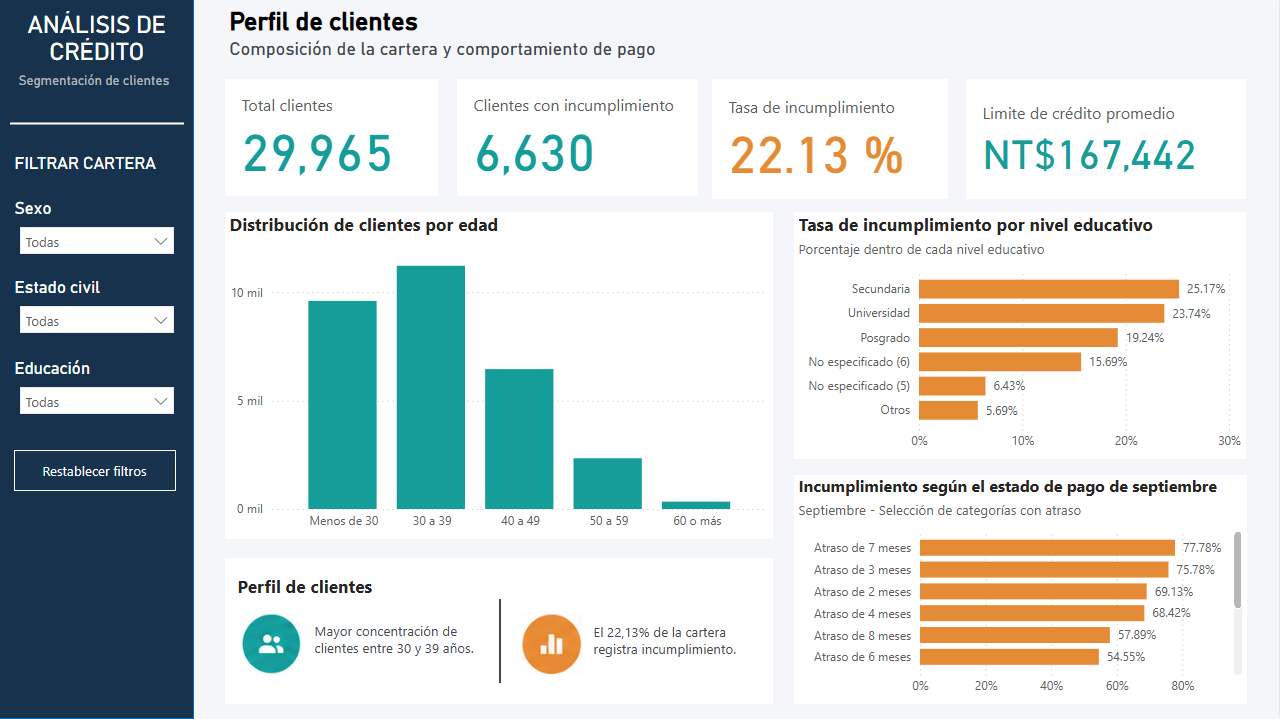

What the dashboard file says about the page in this screenshot:
{"tool":"powerbi","page":{"name":"Perfil de clientes","canvas":[1280,720],"ordinal":0},"visuals":[{"type":"cardVisual","fields":{"Data":["clientes.Total clientes"]},"box":[226,80,213,117],"z":0},{"type":"cardVisual","fields":{"Data":["clientes.Clientes con incumplimiento"]},"box":[458,80,241,117],"z":1000},{"type":"cardVisual","fields":{"Data":["clientes.Tasa de incumplimiento"]},"box":[713,80,236,120],"z":2000},{"type":"cardVisual","fields":{"Data":["clientes.Limite promedio"]},"box":[967,80,280,120],"z":3000},{"type":"clusteredBarChart","title":"Tasa de incumplimiento por nivel educativo","fields":{"Category":["clientes.EDUCATION_etiqueta"],"Y":["clientes.Tasa de incumplimiento"]},"box":[795,213,452,247],"z":4000},{"type":"clusteredBarChart","title":"Incumplimiento según el estado de pago de septiembre","fields":{"Category":["clientes.PAY_0_etiqueta"],"Y":["clientes.Tasa de incumplimiento"]},"box":[795,476,453,229],"z":5000},{"type":"clusteredColumnChart","title":"Distribución de clientes por edad","fields":{"Category":["clientes.Grupo de edad"],"Y":["clientes.Total clientes"]},"box":[226,213,548,327],"z":6000},{"type":"shape","box":[0,0,195,720],"z":7000},{"type":"textbox","title":"ANÁLISIS DE CRÉDITO","box":[18,12,160,62],"z":8000},{"type":"slicer","title":"Sexo","fields":{"Values":["clientes.SEX_etiqueta"]},"box":[11.2,198.9,174,70],"z":9000},{"type":"slicer","title":"Estado civil","fields":{"Values":["clientes.MARRIAGE_etiqueta"]},"box":[11.2,277.9,174,70],"z":10000},{"type":"slicer","title":"Educación","fields":{"Values":["clientes.EDUCATION_etiqueta"]},"box":[11.2,358.9,174,70],"z":11000},{"type":"shape","box":[11,113,174,23],"z":12000},{"type":"textbox","title":"Segmentación de clientes","box":[15,74,166,18],"z":13000},{"type":"textbox","title":"FILTRAR CARTERA","box":[11.2,153.8,166.2,18.1],"z":14000},{"type":"textbox","title":"Perfil de clientes","box":[226,7,1004,32],"z":15000},{"type":"textbox","title":"Composición de la cartera y comportamiento de pago","box":[226,39,584,20],"z":16000},{"type":"actionButton","title":"Restablecer filtros","box":[15,451,162,41],"z":17000},{"type":"shape","box":[226,559,548,146],"z":18000},{"type":"textbox","title":"Perfil de clientes","box":[234,575,234,25],"z":19000},{"type":"image","box":[517,609,72,72],"z":20000},{"type":"image","box":[234,609,77,72],"z":21000},{"type":"textbox","title":"Mayor concentración de clientes entre 30 y 39 años.","box":[311,623,178,44],"z":22000},{"type":"shape","box":[481,600,40,84],"z":23000},{"type":"textbox","title":"El 22,13% de la cartera registra incumplimiento.","box":[590,624,178,44],"z":23001}]}

Visuals, with their boxes in screenshot pixels (x1, y1, x2, y2), scaled from the page's 1280x720 canvas onto the 1280x719 screenshot:
cardVisual - clientes.Total clientes: 226,80,439,197
cardVisual - clientes.Clientes con incumplimiento: 458,80,699,197
cardVisual - clientes.Tasa de incumplimiento: 713,80,949,200
cardVisual - clientes.Limite promedio: 967,80,1247,200
"Tasa de incumplimiento por nivel educativo" clusteredBarChart: 795,213,1247,459
"Incumplimiento según el estado de pago de septiembre" clusteredBarChart: 795,475,1248,704
"Distribución de clientes por edad" clusteredColumnChart: 226,213,774,539
shape: 0,0,195,718
"ANÁLISIS DE CRÉDITO" textbox: 18,12,178,74
"Sexo" slicer: 11,199,185,269
"Estado civil" slicer: 11,278,185,347
"Educación" slicer: 11,358,185,428
shape: 11,113,185,136
"Segmentación de clientes" textbox: 15,74,181,92
"FILTRAR CARTERA" textbox: 11,154,177,172
"Perfil de clientes" textbox: 226,7,1230,39
"Composición de la cartera y comportamiento de pago" textbox: 226,39,810,59
"Restablecer filtros" actionButton: 15,450,177,491
shape: 226,558,774,704
"Perfil de clientes" textbox: 234,574,468,599
image: 517,608,589,680
image: 234,608,311,680
"Mayor concentración de clientes entre 30 y 39 años." textbox: 311,622,489,666
shape: 481,599,521,683
"El 22,13% de la cartera registra incumplimiento." textbox: 590,623,768,667
